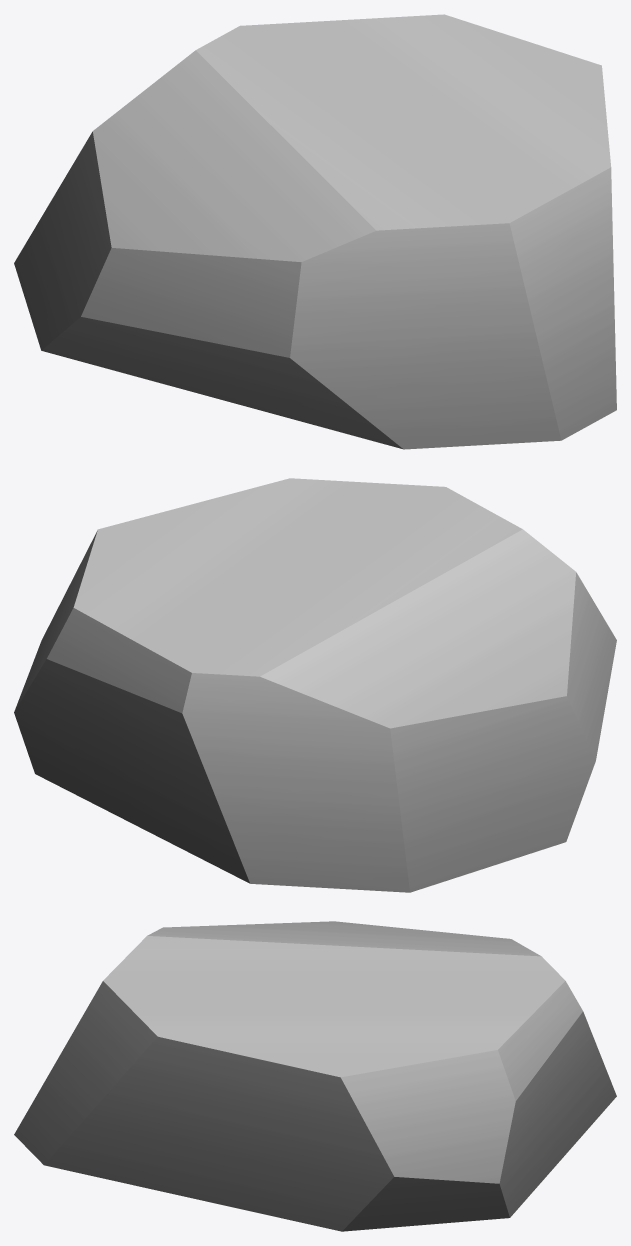
Rendered from Rock1.fbx.
3 views of the same model, one above another, from view 1: azimuth 30°, elevation 25°; view 2: azimuth 150°, elevation 25°; view 3: azimuth 270°, elevation 25° (orthographic). The views are drawn at different scales.
Parts seen in each view (by area): view 1: small_rock_02; view 2: small_rock_02; view 3: small_rock_02.
Part boxes in pixels (x1,y1,x2,y2): small_rock_02: (14,14,616,449); small_rock_02: (14,478,616,892); small_rock_02: (14,921,616,1231).
Bounding box in the file's own units: 96.38 × 29.67 × 105.
